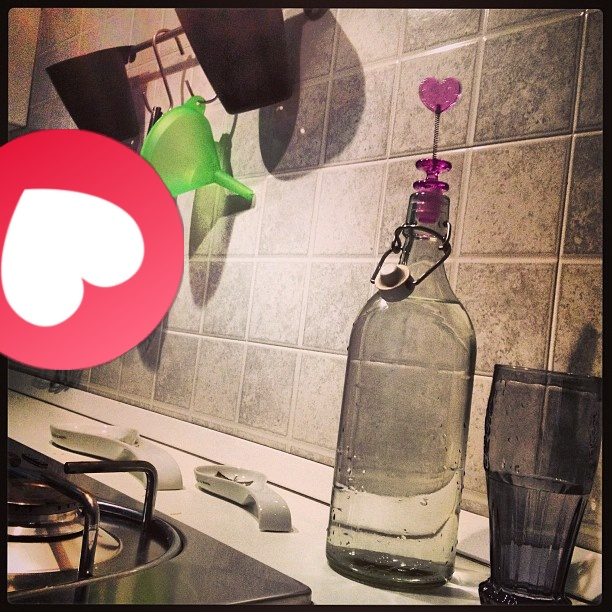love: (0, 129, 184, 370)
